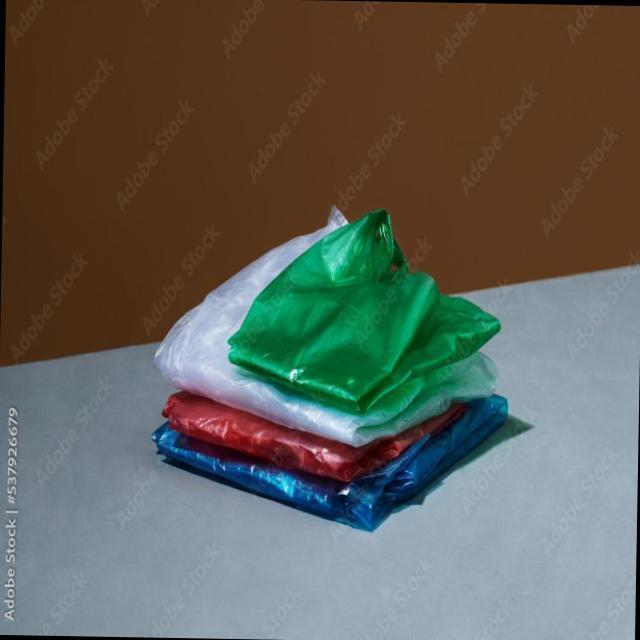Plastic_Bag: (228, 208, 494, 418)
